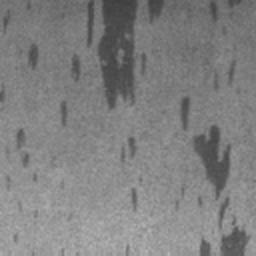Red iron sheet: (0, 0, 165, 215), (180, 96, 253, 256), (210, 0, 243, 23), (228, 59, 238, 86)
